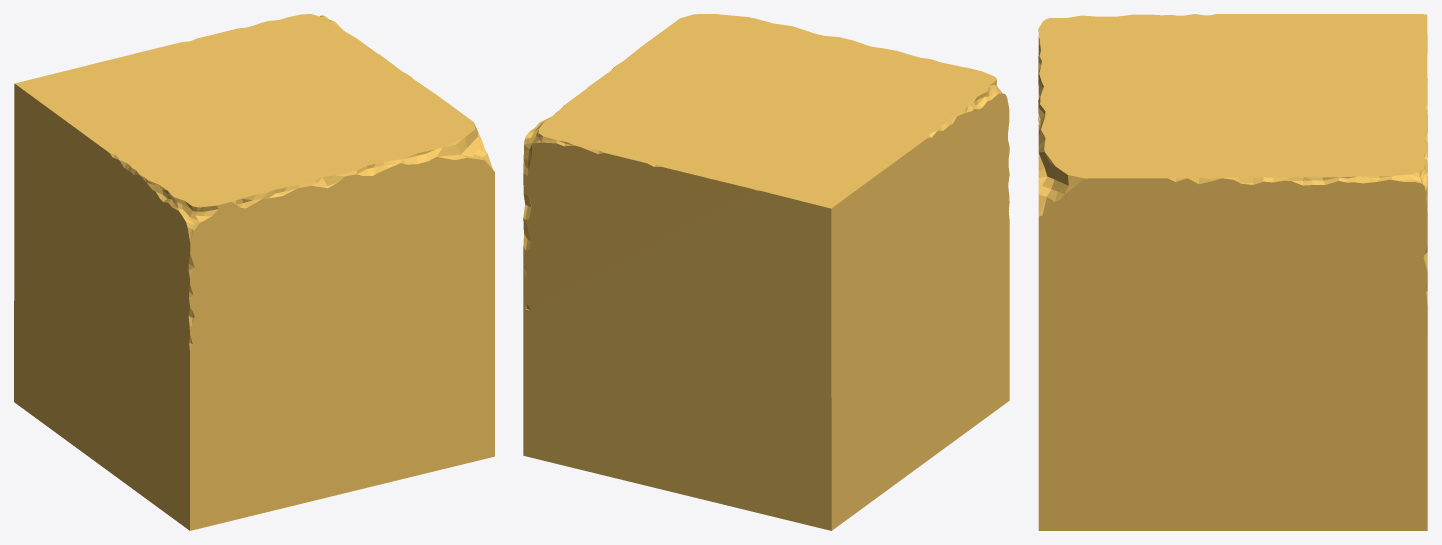
File: P_Sand_Block.fbx
The picture shows the model from 3 angles, left to right: view 1: azimuth 30°, elevation 25°; view 2: azimuth 150°, elevation 25°; view 3: azimuth 270°, elevation 25°; orthographic projection. The views are drawn at different scales.
Parts seen in each view (by area): view 1: wireframe.035; view 2: wireframe.035; view 3: wireframe.035.
Part boxes in pixels (<box>): wireframe.035: <box>14,14,494,530</box>; wireframe.035: <box>523,14,1009,530</box>; wireframe.035: <box>1038,14,1427,530</box>.
Bounding box in the file's own units: 100 × 100 × 100.
